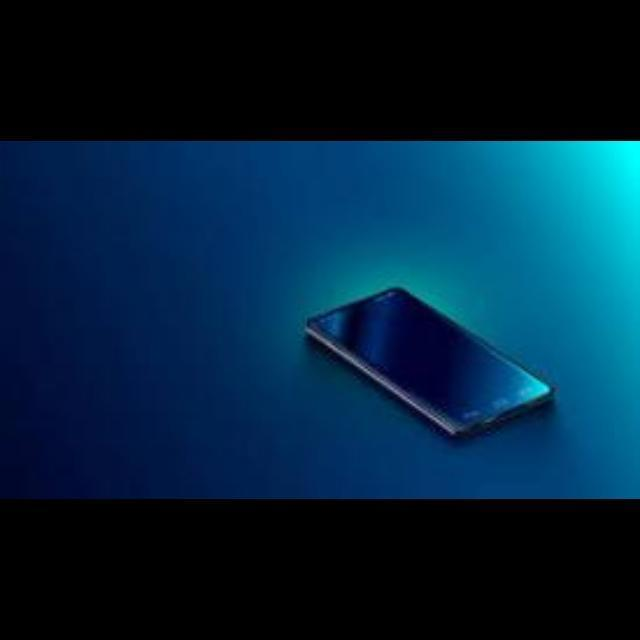PhoneUse: (306, 286, 556, 442)
